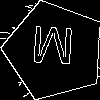M: (29, 26, 75, 74)
